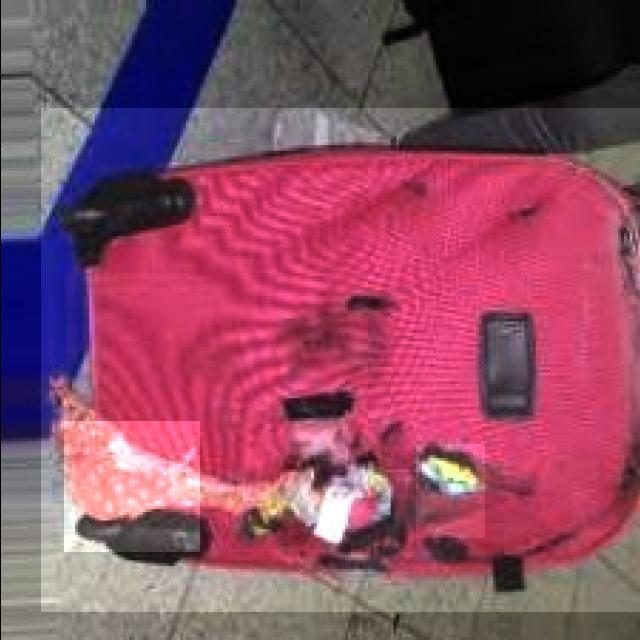Damage-bag: (56, 290, 640, 569), (612, 214, 640, 421), (500, 198, 550, 229), (398, 175, 430, 200)
